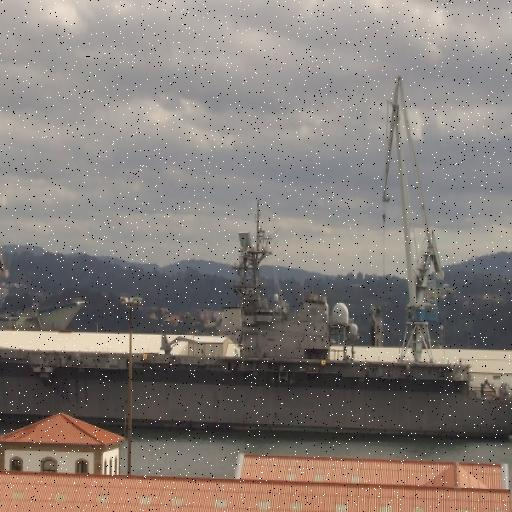Portanaves: (1, 196, 512, 431)
